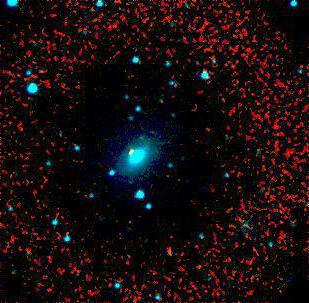star: (117, 137, 147, 167)
